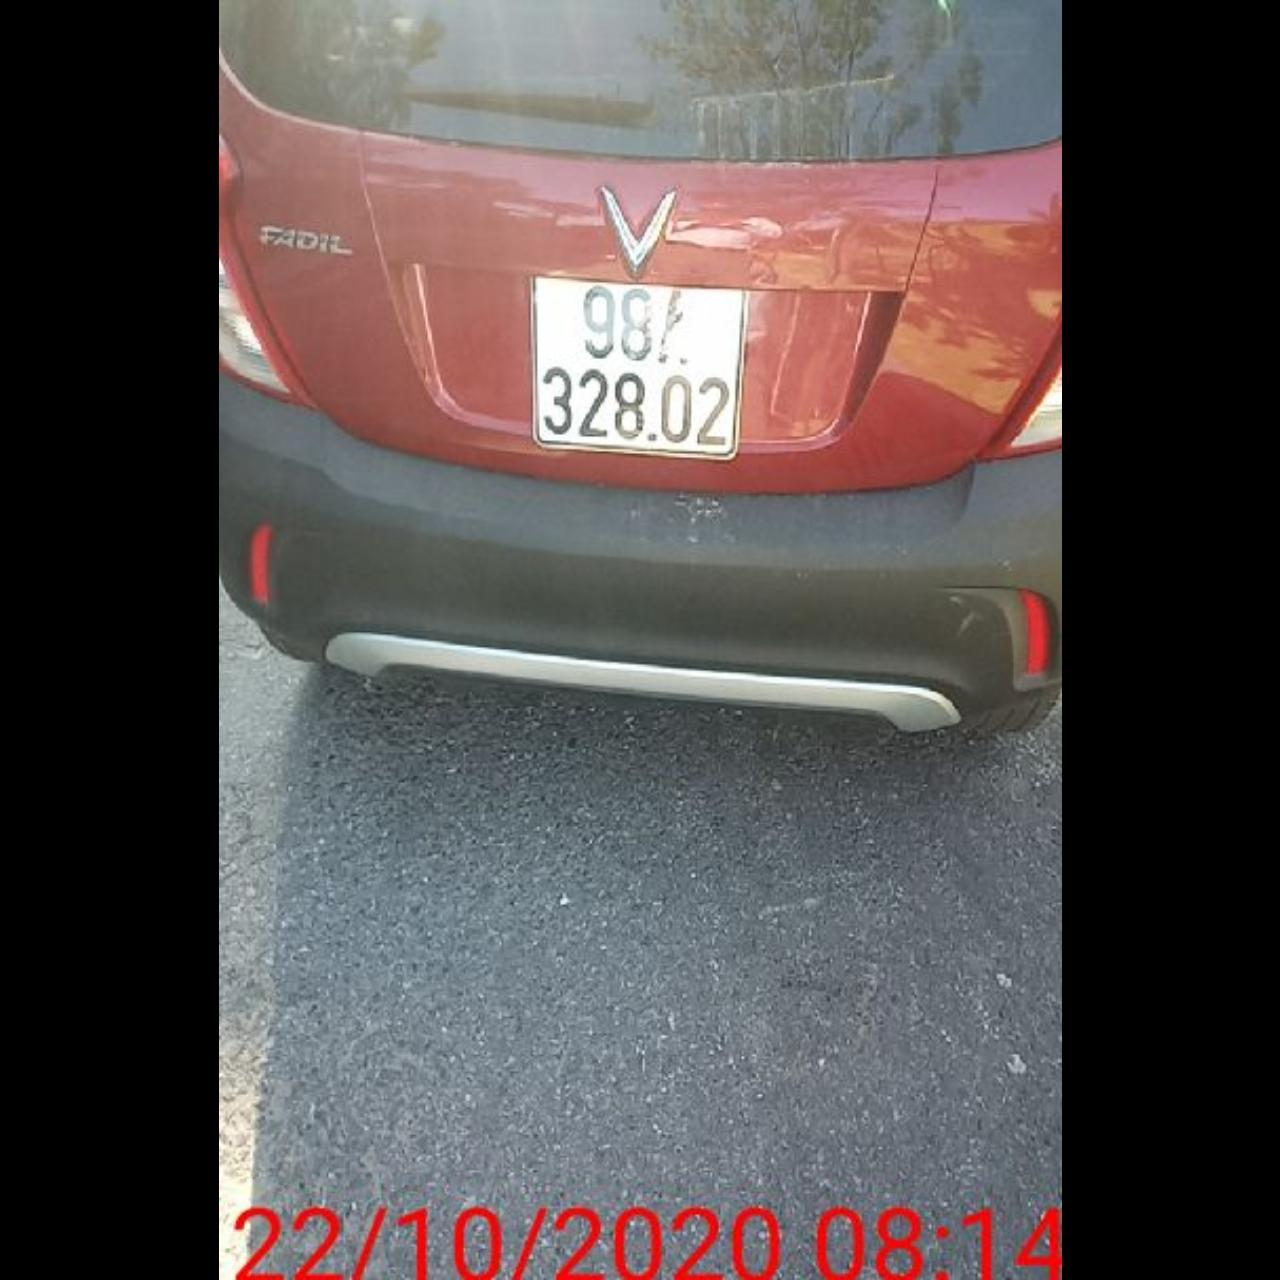bienso: (526, 268, 750, 464)
